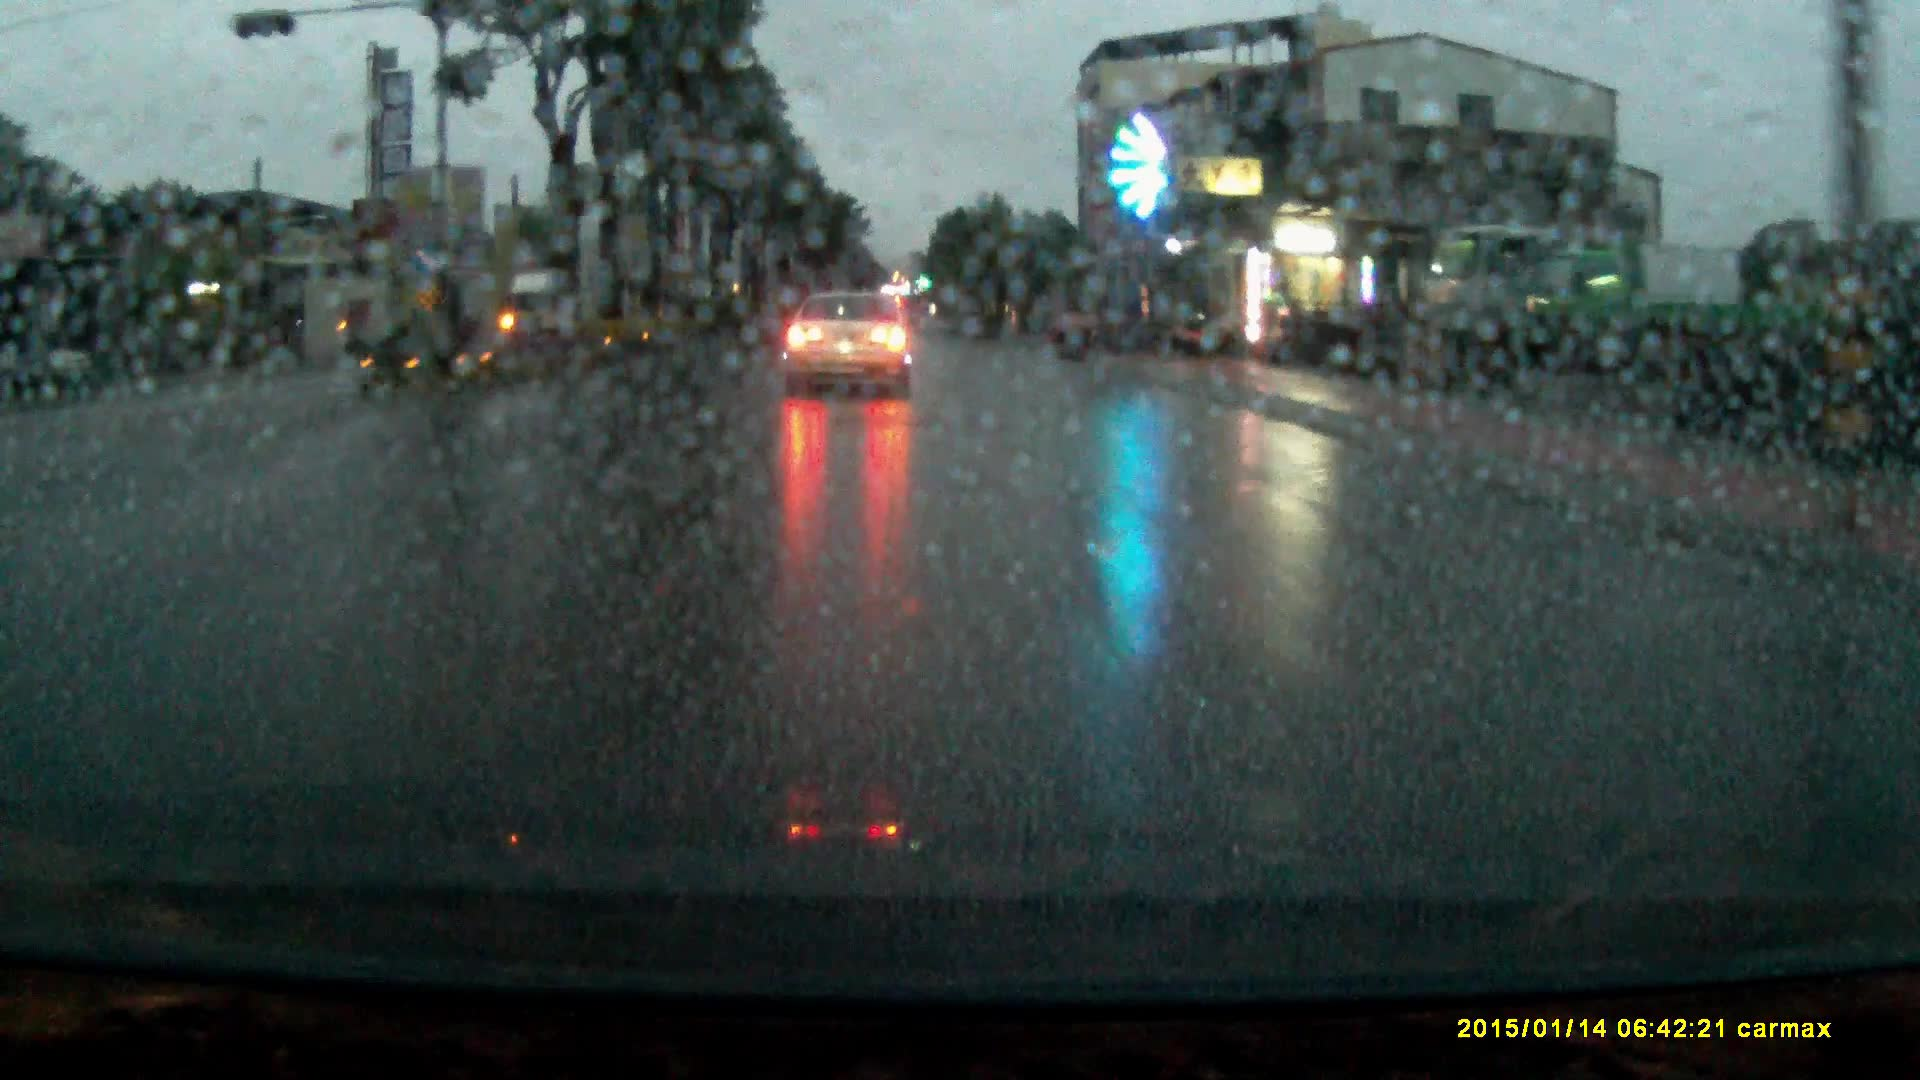vehicle: (1509, 253, 1774, 365), (1429, 229, 1549, 367), (779, 297, 915, 402), (500, 278, 582, 352)
